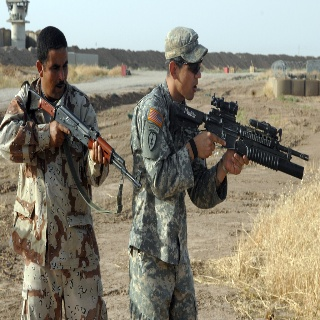rifle: (168, 94, 311, 184), (26, 87, 142, 194)
